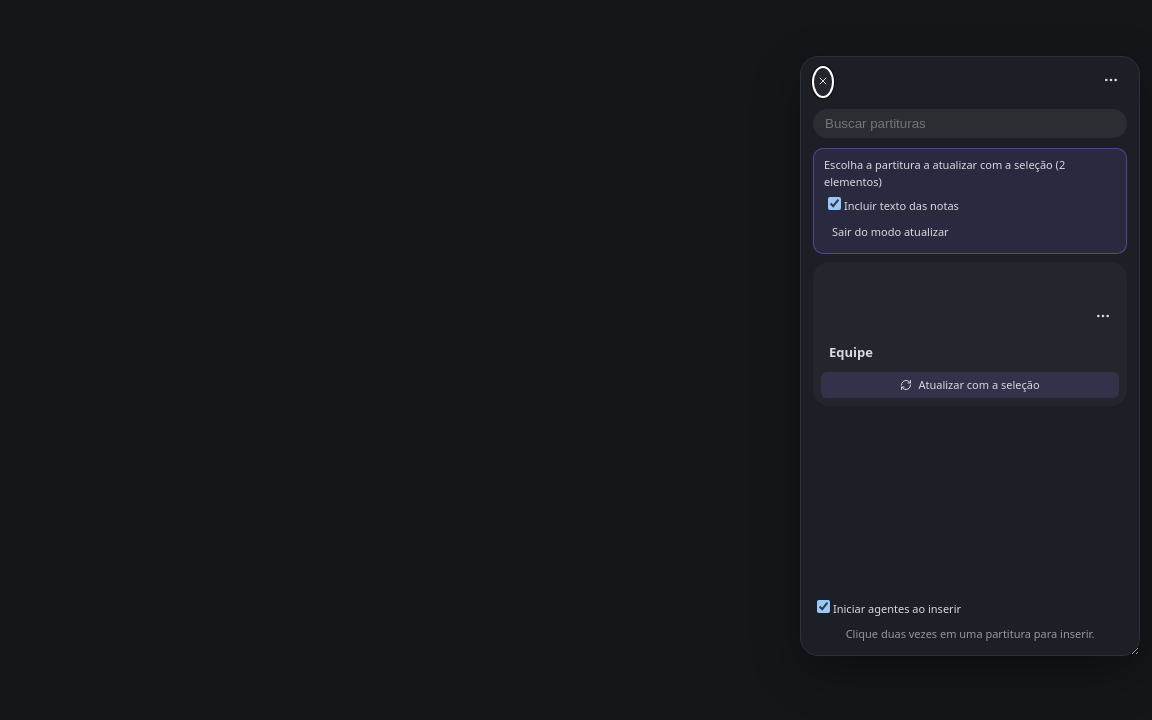
Test: no modo atualizar, Inserir e o duplo clique só inserem; nada é gravado
The image size is (1152, 720).
Later steps or results of the test are not shown.
Double-click the button "Equipe": (954, 318) [821, 270, 1087, 366]
Click the button named "Ações de Equipe": (1103, 318) [1087, 270, 1119, 366]
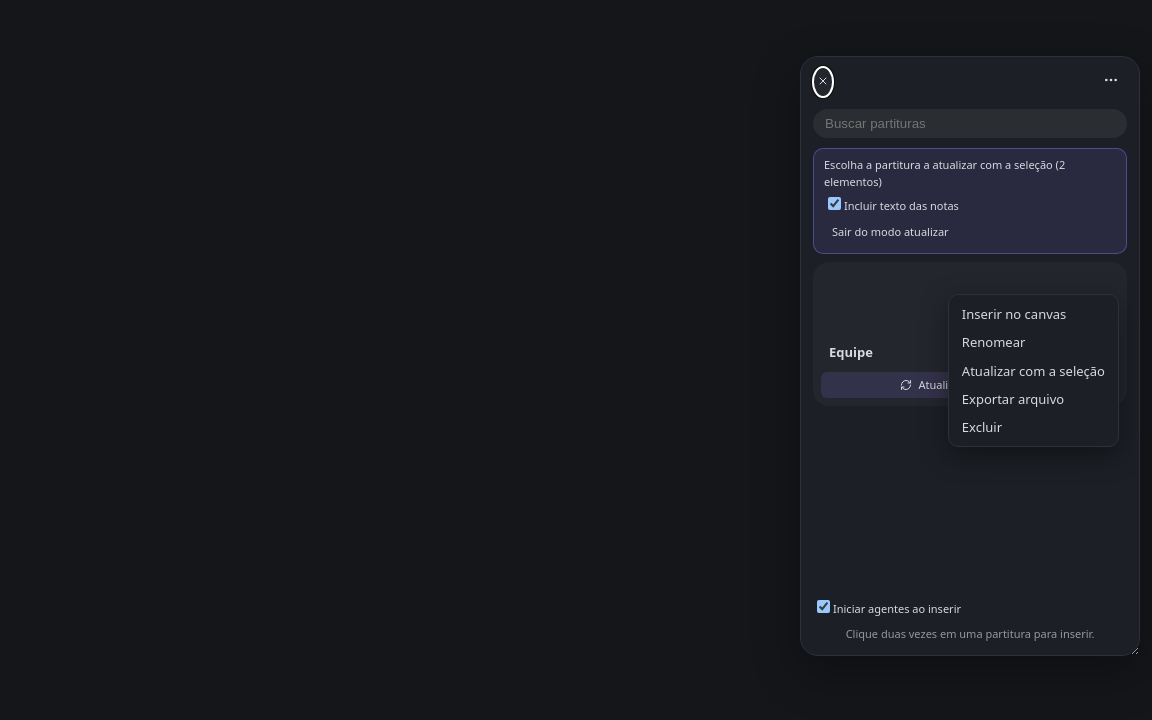
Expected: the menu item "Inserir no canvas" is shown, [954, 300, 1113, 328]
